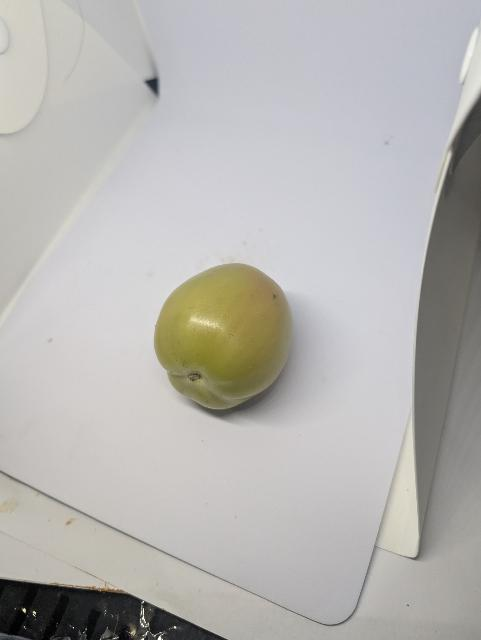breaker: (150, 260, 304, 419)
